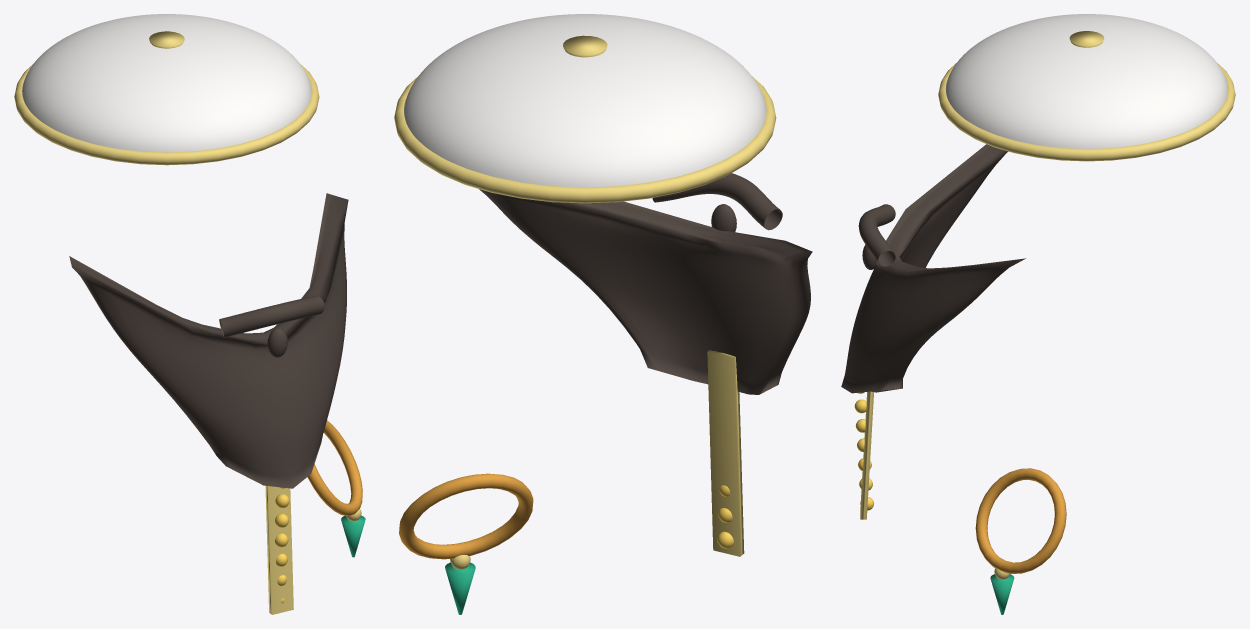
Rendered from mol_foqiya_accessories.glb.
The picture shows the model from 3 angles, left to right: view 1: azimuth 30°, elevation 25°; view 2: azimuth 150°, elevation 25°; view 3: azimuth 270°, elevation 25°; orthographic projection. The views are drawn at different scales.
Parts seen in each view (by area): view 1: MolFoqiya_Taqiya, MolFoqiya_Beard, MolFoqiya_TaqiyaRim, MolFoqiya_Sfifa, MolFoqiya_Moustache, MolFoqiya_Misbaha, MolFoqiya_TasselSkirt, MolFoqiya_Apex, MolFoqiya_SoulPatch; view 2: MolFoqiya_Taqiya, MolFoqiya_Beard, MolFoqiya_TaqiyaRim, MolFoqiya_Sfifa, MolFoqiya_Misbaha, MolFoqiya_Moustache, MolFoqiya_TasselSkirt, MolFoqiya_Apex, MolFoqiya_SoulPatch; view 3: MolFoqiya_Taqiya, MolFoqiya_Beard, MolFoqiya_TaqiyaRim, MolFoqiya_Misbaha, MolFoqiya_Moustache, MolFoqiya_Sfifa, MolFoqiya_TasselSkirt.
Part boxes in pixels (box(x1,y1,x2,y2)): MolFoqiya_Taqiya: box(22, 14, 311, 152); MolFoqiya_Beard: box(69, 193, 348, 488); MolFoqiya_TaqiyaRim: box(14, 63, 319, 165); MolFoqiya_Sfifa: box(265, 485, 293, 614); MolFoqiya_Moustache: box(219, 295, 324, 337); MolFoqiya_Misbaha: box(307, 420, 362, 515); MolFoqiya_TasselSkirt: box(341, 515, 365, 557); MolFoqiya_Apex: box(149, 31, 184, 48); MolFoqiya_SoulPatch: box(267, 328, 287, 357); MolFoqiya_Taqiya: box(404, 14, 766, 187); MolFoqiya_Beard: box(479, 189, 812, 394); MolFoqiya_TaqiyaRim: box(394, 76, 776, 203); MolFoqiya_Sfifa: box(707, 350, 744, 556); MolFoqiya_Misbaha: box(399, 473, 533, 559); MolFoqiya_Moustache: box(652, 173, 782, 230); MolFoqiya_TasselSkirt: box(445, 562, 475, 614); MolFoqiya_Apex: box(563, 35, 607, 57); MolFoqiya_SoulPatch: box(711, 204, 736, 231); MolFoqiya_Taqiya: box(945, 14, 1227, 148); MolFoqiya_Beard: box(841, 144, 1025, 393); MolFoqiya_TaqiyaRim: box(938, 63, 1235, 161); MolFoqiya_Misbaha: box(975, 468, 1066, 573); MolFoqiya_Moustache: box(858, 204, 895, 266); MolFoqiya_Sfifa: box(860, 391, 873, 519); MolFoqiya_TasselSkirt: box(990, 574, 1014, 614).
Size of the model in its own units: 1.28 by 2.09 by 1.47.
